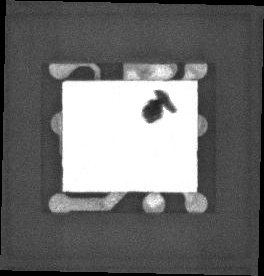DIE_INK: (135, 93, 169, 130)
